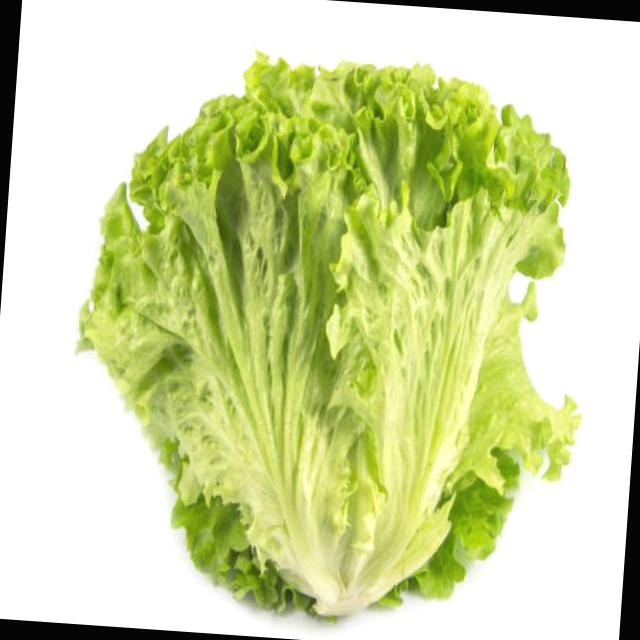Lettuce-Ready-to-Harvest: (81, 55, 577, 616)
